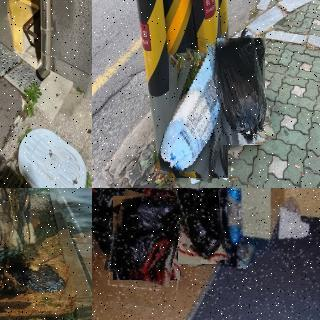Garbage: (161, 50, 236, 181), (108, 193, 185, 284), (212, 36, 270, 147), (173, 188, 223, 265), (3, 260, 71, 298), (92, 188, 129, 251)
